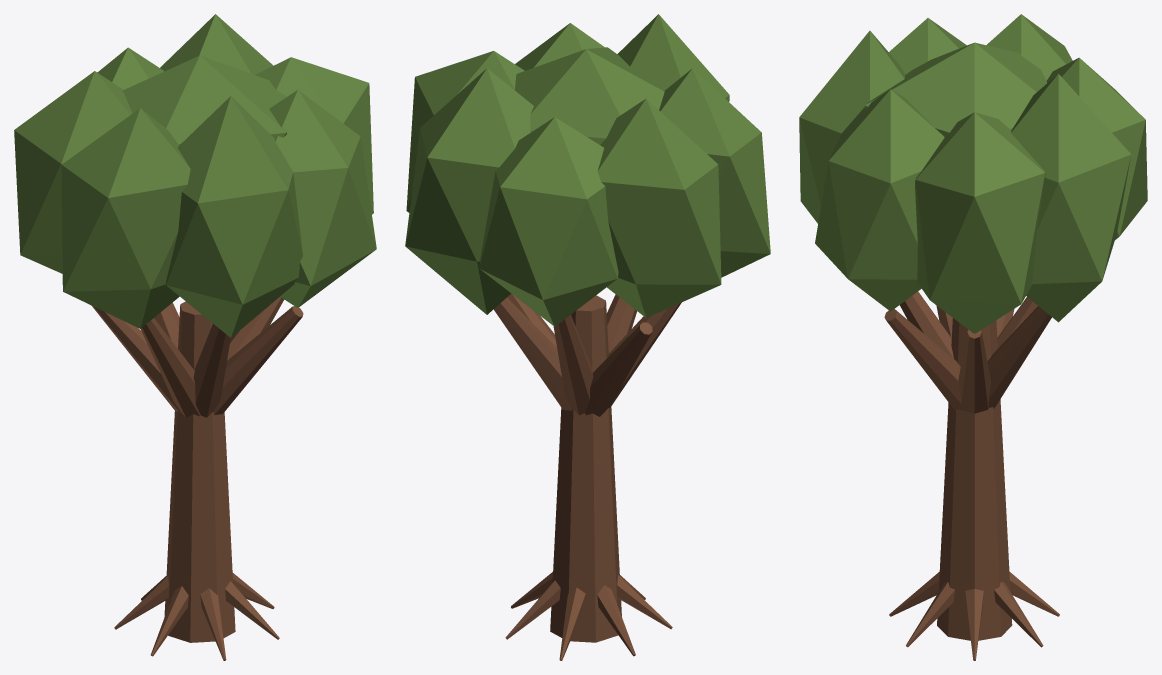
The model's file is tree_world_a.glb.
3 renders of one model, left to right at view 1: azimuth 30°, elevation 25°; view 2: azimuth 150°, elevation 25°; view 3: azimuth 270°, elevation 25°, orthographic.
Visible parts, largest first — view 1: tree_world_a; view 2: tree_world_a; view 3: tree_world_a.
Part boxes in pixels (x1=…): tree_world_a: x1=14, y1=14, x2=376, y2=660; tree_world_a: x1=405, y1=14, x2=770, y2=660; tree_world_a: x1=799, y1=14, x2=1147, y2=660.
Size of the model in its own units: 18 by 30 by 16.19.
